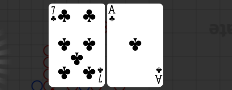7C: (50, 5, 58, 23)
AC: (108, 5, 117, 23)
